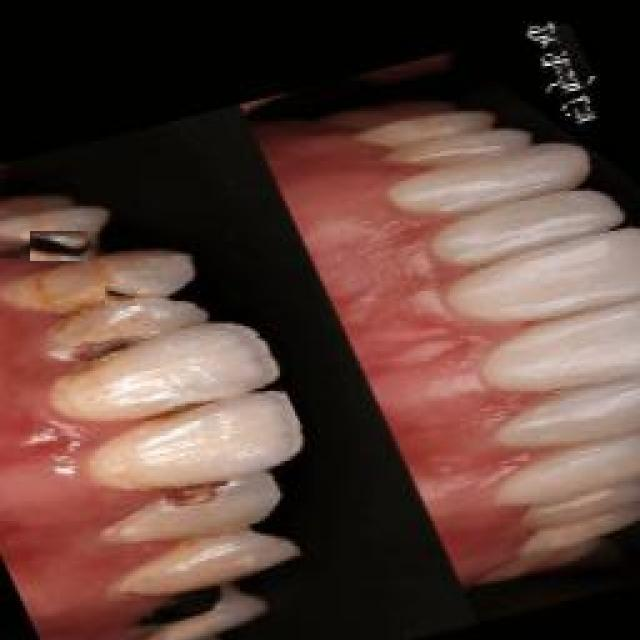decay: (148, 580, 220, 628), (30, 230, 88, 260), (78, 338, 123, 363), (173, 480, 218, 502), (105, 285, 137, 305)
